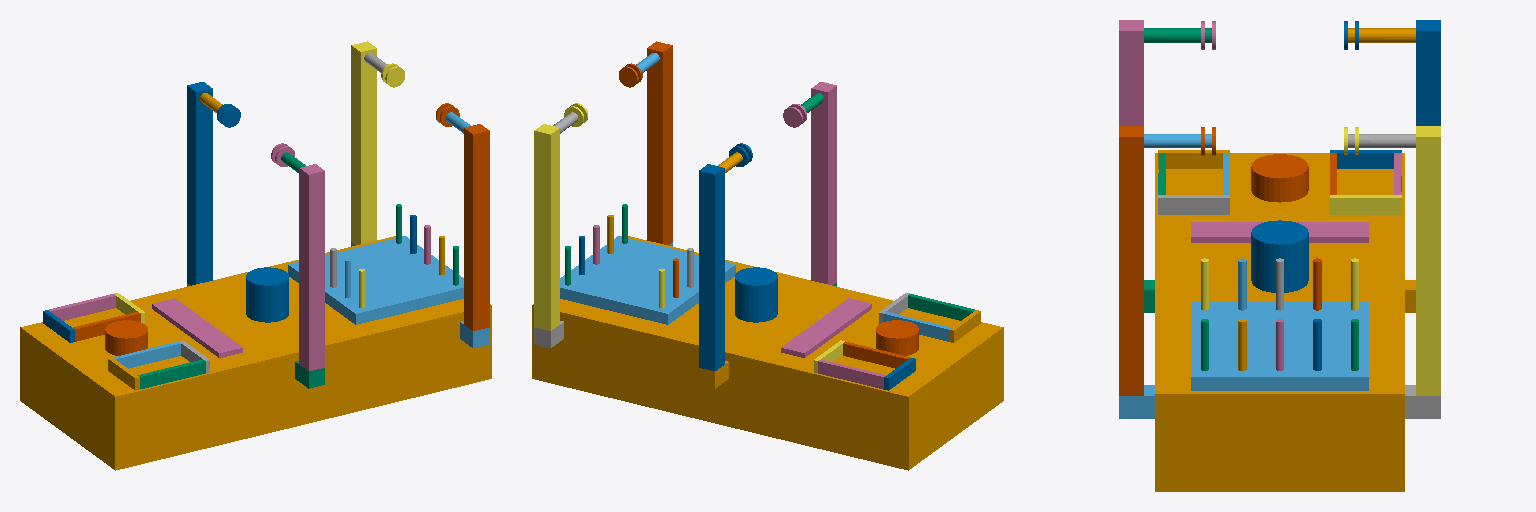
--- What the picture shows (computed from the rendered views, not written in the file) ---
Views: 3 orthographic renders of the robot side by side, from view 1: azimuth 30°, elevation 25°; view 2: azimuth 150°, elevation 25°; view 3: azimuth 270°, elevation 25°.
Model carritov6 with 47 links and 46 joints (46 fixed), rooted at chasis1, posed all joints at 0.
Visible links, largest first — view 1: chasis1, chasis2, pata4_parte2, pata3_parte2, pata1_parte2, pata2_parte2, soporte_ur3_sep, zona_union, soporte_ur3_at, pared4_buffer1, pared4_buffer2, pared3_buffer1 (+2 smaller); view 2: chasis1, chasis2, pata2_parte2, pata1_parte2, pata3_parte2, pata4_parte2, soporte_ur3_sep, zona_union, soporte_ur3_at, pared4_buffer2, pared4_buffer1, pared3_buffer2 (+2 smaller); view 3: chasis1, chasis2, pata1_parte2, pata3_parte2, soporte_ur3_sep, pata2_parte2, pata4_parte2, zona_union, soporte_ur3_at, pared1_buffer1, pared1_buffer2, pared2_buffer1 (+7 smaller).
Link boxes in pixels (x1=…): chasis1: x1=20, y1=236, x2=491, y2=470; chasis2: x1=288, y1=236, x2=463, y2=324; pata4_parte2: x1=299, y1=164, x2=324, y2=370; pata3_parte2: x1=464, y1=124, x2=489, y2=330; pata1_parte2: x1=351, y1=41, x2=376, y2=244; pata2_parte2: x1=187, y1=82, x2=212, y2=285; soporte_ur3_sep: x1=246, y1=267, x2=288, y2=322; zona_union: x1=152, y1=298, x2=242, y2=357; soporte_ur3_at: x1=105, y1=320, x2=147, y2=355; pared4_buffer1: x1=137, y1=359, x2=205, y2=388; pared4_buffer2: x1=49, y1=294, x2=115, y2=320; pared3_buffer1: x1=113, y1=341, x2=180, y2=368; chasis1: x1=532, y1=236, x2=1003, y2=470; chasis2: x1=560, y1=236, x2=735, y2=324; pata2_parte2: x1=699, y1=164, x2=724, y2=370; pata1_parte2: x1=534, y1=124, x2=559, y2=330; pata3_parte2: x1=647, y1=41, x2=672, y2=244; pata4_parte2: x1=811, y1=82, x2=836, y2=285; soporte_ur3_sep: x1=735, y1=267, x2=777, y2=322; zona_union: x1=781, y1=298, x2=871, y2=357; soporte_ur3_at: x1=876, y1=320, x2=918, y2=355; pared4_buffer2: x1=818, y1=359, x2=886, y2=389; pared4_buffer1: x1=908, y1=294, x2=974, y2=320; pared3_buffer2: x1=843, y1=341, x2=910, y2=368; chasis1: x1=1155, y1=153, x2=1404, y2=491; chasis2: x1=1191, y1=301, x2=1368, y2=390; pata1_parte2: x1=1416, y1=126, x2=1440, y2=395; pata3_parte2: x1=1119, y1=126, x2=1143, y2=395; soporte_ur3_sep: x1=1251, y1=220, x2=1308, y2=292; pata2_parte2: x1=1416, y1=20, x2=1440, y2=125; pata4_parte2: x1=1119, y1=20, x2=1143, y2=125; zona_union: x1=1191, y1=222, x2=1368, y2=242; soporte_ur3_at: x1=1251, y1=154, x2=1308, y2=202; pared1_buffer1: x1=1158, y1=195, x2=1229, y2=214; pared1_buffer2: x1=1330, y1=195, x2=1401, y2=214; pared2_buffer1: x1=1158, y1=150, x2=1229, y2=168.
Size in the robot's own frame: 1.6 by 0.9 by 1.08 metres.
Geometry: primitives only (box / cylinder / sphere), no mesh files.

robot.urdf — carritov6:
<?xml version="1.0"?>
<robot name="carritov6">

<!--
  Author: Juan Rubio Romera
-->

  <link name="chasis1">
    <inertial>
      <origin xyz="0 0 0" rpy="0 0 0"/>
      <mass value="1.0" />
      <inertia ixx="0.0741666666667" ixy="0.0" ixz="0.0" iyy="0.0585416666667" iyz="0.0" izz="0.0260416666667"/>
    </inertial>
    <visual>
      <geometry>
        <box size="1.60 0.70 0.30"/> <!--cotas en cm -->
      </geometry>
    </visual>
    <collision>
      <geometry>
        <box size="1.60 0.70 0.30"/> <!--cotas en cm -->
      </geometry>
    </collision>
  </link>

  <link name="chasis2">
    <inertial>
      <origin xyz="0 0 0" rpy="0 0 0"/>
      <mass value="1.0" />
      <inertia ixx="0.0741666666667" ixy="0.0" ixz="0.0" iyy="0.0585416666667" iyz="0.0" izz="0.0260416666667"/>
    </inertial>
    <visual>
      <geometry>
        <box size="0.5 0.5 0.05"/>
      </geometry>
      <material name="aluminium"/>
    </visual>
    <collision>
      <geometry>
        <box size="0.5 0.5 0.05"/>
      </geometry>
      <material name="aluminium"/>
    </collision>
  </link>

  <joint name="chasis1_to_chasis2" type="fixed">
    <parent link="chasis1"/>
    <child link="chasis2"/>
    <origin rpy="0 0 0" xyz="0.53 0 0.17"/>
  </joint>




 <!-- CODIGO SOPORTES -->




  <link name="soporte1_base1">
    <inertial>
      <origin xyz="0 0 0" rpy="0 0 0"/>
      <mass value="1.0" />
      <inertia ixx="0.0741666666667" ixy="0.0" ixz="0.0" iyy="0.0585416666667" iyz="0.0" izz="0.0260416666667"/>
    </inertial>
    <visual>
      <geometry>
        <cylinder length="0.15" radius="0.012"/>
      </geometry>
    </visual>
    <collision>
      <geometry>
        <cylinder length="0.15" radius="0.012"/>
      </geometry>
    </collision>
  </link>

  <joint name="soporte1_base1_to_chasis2" type="fixed">
    <parent link="chasis2"/>
    <child link="soporte1_base1"/>
    <origin rpy="0 0 0" xyz="0.2 0.21 0.100"/>
  </joint>

  <link name="soporte1_base2">
    <inertial>
      <origin xyz="0 0 0" rpy="0 0 0"/>
      <mass value="1.0" />
      <inertia ixx="0.0741666666667" ixy="0.0" ixz="0.0" iyy="0.0585416666667" iyz="0.0" izz="0.0260416666667"/>
    </inertial>
    <visual>
      <geometry>
        <cylinder length="0.15" radius="0.012"/>
      </geometry>
    </visual>
    <collision>
      <geometry>
        <cylinder length="0.15" radius="0.012"/>
      </geometry>
    </collision>
  </link>

  <joint name="soporte1_base2_to_chasis2" type="fixed">
    <parent link="chasis2"/>
    <child link="soporte1_base2"/>
    <origin rpy="0 0 0" xyz="-0.2 0.21 0.1000"/>
  </joint>

  <link name="soporte2_base1">
    <inertial>
      <origin xyz="0 0 0" rpy="0 0 0"/>
      <mass value="1.0" />
      <inertia ixx="0.0741666666667" ixy="0.0" ixz="0.0" iyy="0.0585416666667" iyz="0.0" izz="0.0260416666667"/>
    </inertial>
    <visual>
      <geometry>
        <cylinder length="0.15" radius="0.012"/>
      </geometry>
    </visual>
    <collision>
      <geometry>
        <cylinder length="0.15" radius="0.012"/>
      </geometry>
    </collision>
  </link>

  <joint name="soporte2_base1_to_chasis2" type="fixed">
    <parent link="chasis2"/>
    <child link="soporte2_base1"/>
    <origin rpy="0 0 0" xyz="0.2 0.1050 0.100"/>
  </joint>

  <link name="soporte2_base2">
    <inertial>
      <origin xyz="0 0 0" rpy="0 0 0"/>
      <mass value="1.0" />
      <inertia ixx="0.0741666666667" ixy="0.0" ixz="0.0" iyy="0.0585416666667" iyz="0.0" izz="0.0260416666667"/>
    </inertial>
    <visual>
      <geometry>
        <cylinder length="0.15" radius="0.012"/>
      </geometry>
    </visual>
    <collision>
      <geometry>
        <cylinder length="0.15" radius="0.012"/>
      </geometry>
    </collision>
  </link>

  <joint name="soporte2_base2_to_chasis2" type="fixed">
    <parent link="chasis2"/>
    <child link="soporte2_base2"/>
    <origin rpy="0 0 0" xyz="-0.2 0.1050 0.100"/>
  </joint>

  <link name="soporte3_base1">
    <inertial>
      <origin xyz="0 0 0" rpy="0 0 0"/>
      <mass value="1.0" />
      <inertia ixx="0.0741666666667" ixy="0.0" ixz="0.0" iyy="0.0585416666667" iyz="0.0" izz="0.0260416666667"/>
    </inertial>
    <visual>
      <geometry>
        <cylinder length="0.15" radius="0.012"/>
      </geometry>
    </visual>
    <collision>
      <geometry>
        <cylinder length="0.15" radius="0.012"/>
      </geometry>
    </collision>
  </link>

  <joint name="soporte3_base1_to_chasis2" type="fixed">
    <parent link="chasis2"/>
    <child link="soporte3_base1"/>
    <origin rpy="0 0 0" xyz="0.2 0 0.100"/>
  </joint>

  <link name="soporte3_base2">
    <inertial>
      <origin xyz="0 0 0" rpy="0 0 0"/>
      <mass value="1.0" />
      <inertia ixx="0.0741666666667" ixy="0.0" ixz="0.0" iyy="0.0585416666667" iyz="0.0" izz="0.0260416666667"/>
    </inertial>
    <visual>
      <geometry>
        <cylinder length="0.15" radius="0.012"/>
      </geometry>
    </visual>
    <collision>
      <geometry>
        <cylinder length="0.15" radius="0.012"/>
      </geometry>
    </collision>
  </link>

  <joint name="soporte3_base2_to_chasis2" type="fixed">
    <parent link="chasis2"/>
    <child link="soporte3_base2"/>
    <origin rpy="0 0 0" xyz="-0.2 0 0.100"/>
  </joint>

  <link name="soporte4_base1">
    <inertial>
      <origin xyz="0 0 0" rpy="0 0 0"/>
      <mass value="1.0" />
      <inertia ixx="0.0741666666667" ixy="0.0" ixz="0.0" iyy="0.0585416666667" iyz="0.0" izz="0.0260416666667"/>
    </inertial>
    <visual>
      <geometry>
        <cylinder length="0.15" radius="0.012"/>
      </geometry>
    </visual>
    <collision>
      <geometry>
        <cylinder length="0.15" radius="0.012"/>
      </geometry>
    </collision>
  </link>

  <joint name="soporte4_base1_to_chasis2" type="fixed">
    <parent link="chasis2"/>
    <child link="soporte4_base1"/>
    <origin rpy="0 0 0" xyz="0.2 -0.105 0.100"/>
  </joint>

  <link name="soporte4_base2">
    <inertial>
      <origin xyz="0 0 0" rpy="0 0 0"/>
      <mass value="1.0" />
      <inertia ixx="0.0741666666667" ixy="0.0" ixz="0.0" iyy="0.0585416666667" iyz="0.0" izz="0.0260416666667"/>
    </inertial>
    <visual>
      <geometry>
        <cylinder length="0.15" radius="0.012"/>
      </geometry>
    </visual>
    <collision>
      <geometry>
        <cylinder length="0.15" radius="0.012"/>
      </geometry>
    </collision>
  </link>

  <joint name="soporte4_base2_to_chasis2" type="fixed">
    <parent link="chasis2"/>
    <child link="soporte4_base2"/>
    <origin rpy="0 0 0" xyz="-0.2 -0.105 0.100"/>
  </joint>

  <link name="soporte5_base1">
    <inertial>
      <origin xyz="0 0 0" rpy="0 0 0"/>
      <mass value="1.0" />
      <inertia ixx="0.0741666666667" ixy="0.0" ixz="0.0" iyy="0.0585416666667" iyz="0.0" izz="0.0260416666667"/>
    </inertial>
    <visual>
      <geometry>
        <cylinder length="0.15" radius="0.012"/>
      </geometry>
    </visual>
    <collision>
      <geometry>
        <cylinder length="0.15" radius="0.012"/>
      </geometry>
    </collision>
  </link>

  <joint name="soporte5_base1_to_chasis2" type="fixed">
    <parent link="chasis2"/>
    <child link="soporte5_base1"/>
    <origin rpy="0 0 0" xyz="0.2 -0.210 0.100"/>
  </joint>

  <link name="soporte5_base2">
    <inertial>
      <origin xyz="0 0 0" rpy="0 0 0"/>
      <mass value="1.0" />
      <inertia ixx="0.0741666666667" ixy="0.0" ixz="0.0" iyy="0.0585416666667" iyz="0.0" izz="0.0260416666667"/>
    </inertial>
    <visual>
      <geometry>
        <cylinder length="0.15" radius="0.012"/>
      </geometry>
    </visual>
    <collision>
      <geometry>
        <cylinder length="0.15" radius="0.012"/>
      </geometry>
    </collision>
  </link>

  <joint name="soporte5_base2_to_chasis2" type="fixed">
    <parent link="chasis2"/>
    <child link="soporte5_base2"/>
    <origin rpy="0 0 0" xyz="-0.2 -0.210 0.100"/>
  </joint>





<!-- CÓDIGO SOPORTES BRAZOS -->





  <link name="soporte_ur3_sep">
    <inertial>
      <origin xyz="0 0 0" rpy="0 0 0"/>
      <mass value="1.0" />
      <inertia ixx="0.0741666666667" ixy="0.0" ixz="0.0" iyy="0.0585416666667" iyz="0.0" izz="0.0260416666667"/>
    </inertial>
    <visual>
      <geometry>
        <cylinder length="0.15" radius="0.08"/>
      </geometry>
    </visual>
    <collision>
      <geometry>
        <cylinder length="0.15" radius="0.08"/>
      </geometry>
    </collision>
  </link>

  <joint name="soporte_ur3_sep_to_chassis1" type="fixed">
    <parent link="chasis1"/>
    <child link="soporte_ur3_sep"/>
    <origin rpy="0 0 0" xyz="0.05 0 0.2250"/>
  </joint>

  <link name="soporte_ur3_at">
    <inertial>
      <origin xyz="0 0 0" rpy="0 0 0"/>
      <mass value="1.0" />
      <inertia ixx="0.0741666666667" ixy="0.0" ixz="0.0" iyy="0.0585416666667" iyz="0.0" izz="0.0260416666667"/>
    </inertial>
    <visual>
      <geometry>
        <cylinder length="0.075" radius="0.08"/>
      </geometry>
    </visual>
    <collision>
      <geometry>
        <cylinder length="0.075" radius="0.08"/>
      </geometry>
    </collision>
  </link>

  <joint name="soporte_ur3_at_to_chassis1" type="fixed">
    <parent link="chasis1"/>
    <child link="soporte_ur3_at"/>
    <origin rpy="0 0 0" xyz="-0.55 0 0.1875"/>
  </joint>




<!-- CÓDIGO ZONA DE TRABAJO Y BUFFERS -->




  <link name="zona_union">
    <inertial>
      <origin xyz="0 0 0" rpy="0 0 0"/>
      <mass value="1.0" />
      <inertia ixx="0.0741666666667" ixy="0.0" ixz="0.0" iyy="0.0585416666667" iyz="0.0" izz="0.0260416666667"/>
    </inertial>
    <visual>
      <geometry>
        <box size="0.1 0.5 0.02"/>
      </geometry>
      <material name="aluminium"/>
    </visual>
    <collision>
      <geometry>
        <box size="0.1 0.5 0.02"/>
      </geometry>
      <material name="aluminium"/>
    </collision>
  </link>

  <joint name="chasis1_to_zona_union" type="fixed">
    <parent link="chasis1"/>
    <child link="zona_union"/>
    <origin rpy="0 0 0" xyz="-0.25 0 0.16"/>
  </joint>

  <link name="pared1_buffer1">
    <inertial>
      <origin xyz="0 0 0" rpy="0 0 0"/>
      <mass value="1.0" />
      <inertia ixx="0.0741666666667" ixy="0.0" ixz="0.0" iyy="0.0585416666667" iyz="0.0" izz="0.0260416666667"/>
    </inertial>
    <visual>
      <geometry>
        <box size="0.02 0.2 0.05"/>
      </geometry>
      <material name="aluminium"/>
    </visual>
    <collision>
      <geometry>
        <box size="0.02 0.2 0.05"/>
      </geometry>
      <material name="aluminium"/>
    </collision>
  </link>

  <joint name="chasis1_to_pared1_buffer1" type="fixed">
    <parent link="chasis1"/>
    <child link="pared1_buffer1"/>
    <origin rpy="0 0 0" xyz="-0.4 -0.24 0.175"/>
  </joint>

  <link name="pared2_buffer1">
    <inertial>
      <origin xyz="0 0 0" rpy="0 0 0"/>
      <mass value="1.0" />
      <inertia ixx="0.0741666666667" ixy="0.0" ixz="0.0" iyy="0.0585416666667" iyz="0.0" izz="0.0260416666667"/>
    </inertial>
    <visual>
      <geometry>
        <box size="0.02 0.2 0.05"/>
      </geometry>
      <material name="aluminium"/>
    </visual>
    <collision>
      <geometry>
        <box size="0.02 0.2 0.05"/>
      </geometry>
      <material name="aluminium"/>
    </collision>
  </link>

  <joint name="chasis1_to_pared2_buffer1" type="fixed">
    <parent link="chasis1"/>
    <child link="pared2_buffer1"/>
    <origin rpy="0 0 0" xyz="-0.7 -0.24 0.175"/>
  </joint>

  <link name="pared3_buffer1">
    <inertial>
      <origin xyz="0 0 0" rpy="0 0 0"/>
      <mass value="1.0" />
      <inertia ixx="0.0741666666667" ixy="0.0" ixz="0.0" iyy="0.0585416666667" iyz="0.0" izz="0.0260416666667"/>
    </inertial>
    <visual>
      <geometry>
        <box size="0.02 0.28 0.05"/>
      </geometry>
      <material name="aluminium"/>
    </visual>
    <collision>
      <geometry>
        <box size="0.02 0.28 0.05"/>
      </geometry>
      <material name="aluminium"/>
    </collision>
  </link>

  <joint name="chasis1_to_pared3_buffer1" type="fixed">
    <parent link="chasis1"/>
    <child link="pared3_buffer1"/>
    <origin rpy="0 0 1.57" xyz="-0.55 -0.15 0.175"/>
  </joint>

  <link name="pared4_buffer1">
    <inertial>
      <origin xyz="0 0 0" rpy="0 0 0"/>
      <mass value="1.0" />
      <inertia ixx="0.0741666666667" ixy="0.0" ixz="0.0" iyy="0.0585416666667" iyz="0.0" izz="0.0260416666667"/>
    </inertial>
    <visual>
      <geometry>
        <box size="0.02 0.28 0.05"/>
      </geometry>
      <material name="aluminium"/>
    </visual>
    <collision>
      <geometry>
        <box size="0.02 0.28 0.05"/>
      </geometry>
      <material name="aluminium"/>
    </collision>
  </link>

  <joint name="chasis1_to_pared4_buffer1" type="fixed">
    <parent link="chasis1"/>
    <child link="pared4_buffer1"/>
    <origin rpy="0 0 1.57" xyz="-0.55 -0.33 0.175"/>
  </joint>

  <link name="pared1_buffer2">
    <inertial>
      <origin xyz="0 0 0" rpy="0 0 0"/>
      <mass value="1.0" />
      <inertia ixx="0.0741666666667" ixy="0.0" ixz="0.0" iyy="0.0585416666667" iyz="0.0" izz="0.0260416666667"/>
    </inertial>
    <visual>
      <geometry>
        <box size="0.02 0.2 0.05"/>
      </geometry>
      <material name="aluminium"/>
    </visual>
    <collision>
      <geometry>
        <box size="0.02 0.2 0.05"/>
      </geometry>
      <material name="aluminium"/>
    </collision>
  </link>

  <joint name="chasis1_to_pared1_buffer2" type="fixed">
    <parent link="chasis1"/>
    <child link="pared1_buffer2"/>
    <origin rpy="0 0 0" xyz="-0.4 0.24 0.175"/>
  </joint>

  <link name="pared2_buffer2">
    <inertial>
      <origin xyz="0 0 0" rpy="0 0 0"/>
      <mass value="1.0" />
      <inertia ixx="0.0741666666667" ixy="0.0" ixz="0.0" iyy="0.0585416666667" iyz="0.0" izz="0.0260416666667"/>
    </inertial>
    <visual>
      <geometry>
        <box size="0.02 0.2 0.05"/>
      </geometry>
      <material name="aluminium"/>
    </visual>
    <collision>
      <geometry>
        <box size="0.02 0.2 0.05"/>
      </geometry>
      <material name="aluminium"/>
    </collision>
  </link>

  <joint name="chasis1_to_pared2_buffer2" type="fixed">
    <parent link="chasis1"/>
    <child link="pared2_buffer2"/>
    <origin rpy="0 0 0" xyz="-0.7 0.24 0.175"/>
  </joint>

  <link name="pared3_buffer2">
    <inertial>
      <origin xyz="0 0 0" rpy="0 0 0"/>
      <mass value="1.0" />
      <inertia ixx="0.0741666666667" ixy="0.0" ixz="0.0" iyy="0.0585416666667" iyz="0.0" izz="0.0260416666667"/>
    </inertial>
    <visual>
      <geometry>
        <box size="0.02 0.28 0.05"/>
      </geometry>
      <material name="aluminium"/>
    </visual>
    <collision>
      <geometry>
        <box size="0.02 0.28 0.05"/>
      </geometry>
      <material name="aluminium"/>
    </collision>
  </link>

  <joint name="chasis1_to_pared3_buffer2" type="fixed">
    <parent link="chasis1"/>
    <child link="pared3_buffer2"/>
    <origin rpy="0 0 1.57" xyz="-0.55 0.15 0.175"/>
  </joint>

  <link name="pared4_buffer2">
    <inertial>
      <origin xyz="0 0 0" rpy="0 0 0"/>
      <mass value="1.0" />
      <inertia ixx="0.0741666666667" ixy="0.0" ixz="0.0" iyy="0.0585416666667" iyz="0.0" izz="0.0260416666667"/>
    </inertial>
    <visual>
      <geometry>
        <box size="0.02 0.28 0.05"/>
      </geometry>
      <material name="aluminium"/>
    
    </visual>
    <collision>
      <geometry>
        <box size="0.02 0.28 0.05"/>
      </geometry>
      <material name="aluminium"/>
    </collision>
  </link>

  <joint name="chasis1_to_pared4_buffer2" type="fixed">
    <parent link="chasis1"/>
    <child link="pared4_buffer2"/>
    <origin rpy="0 0 1.57" xyz="-0.55 0.33 0.175"/>
  </joint>



<!-- CÓDIGO PATAS Y RUEDAS -->


  <link name="pata1_parte1">
    <inertial>
      <origin xyz="0 0 0" rpy="0 0 0"/>
      <mass value="1.0" />
      <inertia ixx="0.0741666666667" ixy="0.0" ixz="0.0" iyy="0.0585416666667" iyz="0.0" izz="0.0260416666667"/>
    </inertial>
    <visual>
      <geometry>
        <box size="0.07 0.1 0.07"/>
      </geometry>
      <material name="aluminium"/>
    
    </visual>
    <collision>
      <geometry>
        <box size="0.07 0.1 0.07"/>
      </geometry>
      <material name="aluminium"/>
    </collision>
  </link>

  <joint name="chasis1_to_pata1_parte1" type="fixed">
    <parent link="chasis1"/>
    <child link="pata1_parte1"/>
    <origin rpy="0 0 0" xyz="0.7 0.4 0.08"/>
  </joint>

  <link name="pata2_parte1">
    <inertial>
      <origin xyz="0 0 0" rpy="0 0 0"/>
      <mass value="1.0" />
      <inertia ixx="0.0741666666667" ixy="0.0" ixz="0.0" iyy="0.0585416666667" iyz="0.0" izz="0.0260416666667"/>
    </inertial>
    <visual>
      <geometry>
        <box size="0.07 0.1 0.07"/>
      </geometry>
      <material name="aluminium"/>
    
    </visual>
    <collision>
      <geometry>
        <box size="0.07 0.1 0.07"/>
      </geometry>
      <material name="aluminium"/>
    </collision>
  </link>

  <joint name="chasis1_to_pata2_parte1" type="fixed">
    <parent link="chasis1"/>
    <child link="pata2_parte1"/>
    <origin rpy="0 0 0" xyz="0 0.4 0.08"/>
  </joint>

  <link name="pata3_parte1">
    <inertial>
      <origin xyz="0 0 0" rpy="0 0 0"/>
      <mass value="1.0" />
      <inertia ixx="0.0741666666667" ixy="0.0" ixz="0.0" iyy="0.0585416666667" iyz="0.0" izz="0.0260416666667"/>
    </inertial>
    <visual>
      <geometry>
        <box size="0.07 0.1 0.07"/>
      </geometry>
      <material name="aluminium"/>
    
    </visual>
    <collision>
      <geometry>
        <box size="0.07 0.1 0.07"/>
      </geometry>
      <material name="aluminium"/>
    </collision>
  </link>

  <joint name="chasis1_to_pata3_parte1" type="fixed">
    <parent link="chasis1"/>
    <child link="pata3_parte1"/>
    <origin rpy="0 0 0" xyz="0.7 -0.4 0.08"/>
  </joint>

  <link name="pata4_parte1">
    <inertial>
      <origin xyz="0 0 0" rpy="0 0 0"/>
      <mass value="1.0" />
      <inertia ixx="0.0741666666667" ixy="0.0" ixz="0.0" iyy="0.0585416666667" iyz="0.0" izz="0.0260416666667"/>
    </inertial>
    <visual>
      <geometry>
        <box size="0.07 0.1 0.07"/>
      </geometry>
      <material name="aluminium"/>
    
    </visual>
    <collision>
      <geometry>
        <box size="0.07 0.1 0.07"/>
      </geometry>
      <material name="aluminium"/>
    </collision>
  </link>

  <joint name="chasis1_to_pata4_parte1" type="fixed">
    <parent link="chasis1"/>
    <child link="pata4_parte1"/>
    <origin rpy="0 0 0" xyz="0 -0.4 0.08"/>
  </joint>

  <link name="pata1_parte2">
    <inertial>
      <origin xyz="0 0 0" rpy="0 0 0"/>
      <mass value="1.0" />
      <inertia ixx="0.0741666666667" ixy="0.0" ixz="0.0" iyy="0.0585416666667" iyz="0.0" izz="0.0260416666667"/>
    </inertial>
    <visual>
      <geometry>
        <box size="0.07 0.07 0.8"/>
      </geometry>
      <material name="aluminium"/>
    
    </visual>
    <collision>
      <geometry>
        <box size="0.07 0.07 0.8"/>
      </geometry>
      <material name="aluminium"/>
    </collision>
  </link>

  <joint name="pata1_parte1_to_pata1_parte2" type="fixed">
    <parent link="pata1_parte1"/>
    <child link="pata1_parte2"/>
    <origin rpy="0 0 0" xyz="0 0.015 0.435"/>
  </joint>

  <link name="pata2_parte2">
    <inertial>
      <origin xyz="0 0 0" rpy="0 0 0"/>
      <mass value="1.0" />
      <inertia ixx="0.0741666666667" ixy="0.0" ixz="0.0" iyy="0.0585416666667" iyz="0.0" izz="0.0260416666667"/>
    </inertial>
    <visual>
      <geometry>
        <box size="0.07 0.07 0.8"/>
      </geometry>
      <material name="aluminium"/>
    
    </visual>
    <collision>
      <geometry>
        <box size="0.07 0.07 0.8"/>
      </geometry>
      <material name="aluminium"/>
    </collision>
  </link>

  <joint name="pata2_parte1_to_pata2_parte2" type="fixed">
    <parent link="pata2_parte1"/>
    <child link="pata2_parte2"/>
    <origin rpy="0 0 0" xyz="0 0.015 0.435"/>
  </joint>

  <link name="pata3_parte2">
    <inertial>
      <origin xyz="0 0 0" rpy="0 0 0"/>
      <mass value="1.0" />
      <inertia ixx="0.0741666666667" ixy="0.0" ixz="0.0" iyy="0.0585416666667" iyz="0.0" izz="0.0260416666667"/>
    </inertial>
    <visual>
      <geometry>
        <box size="0.07 0.07 0.8"/>
      </geometry>
      <material name="aluminium"/>
    
    </visual>
    <collision>
      <geometry>
        <box size="0.07 0.07 0.8"/>
      </geometry>
      <material name="aluminium"/>
    </collision>
  </link>

  <joint name="pata3_parte1_to_pata3_parte2" type="fixed">
    <parent link="pata3_parte1"/>
    <child link="pata3_parte2"/>
    <origin rpy="0 0 0" xyz="0 -0.015 0.435"/>
  </joint>

  <link name="pata4_parte2">
    <inertial>
      <origin xyz="0 0 0" rpy="0 0 0"/>
      <mass value="1.0" />
      <inertia ixx="0.0741666666667" ixy="0.0" ixz="0.0" iyy="0.0585416666667" iyz="0.0" izz="0.0260416666667"/>
    </inertial>
    <visual>
      <geometry>
        <box size="0.07 0.07 0.8"/>
      </geometry>
      <material name="aluminium"/>
    
    </visual>
    <collision>
      <geometry>
        <box size="0.07 0.07 0.8"/>
      </geometry>
      <material name="aluminium"/>
    </collision>
  </link>

  <joint name="pata4_parte1_to_pata4_parte2" type="fixed">
    <parent link="pata4_parte1"/>
    <child link="pata4_parte2"/>
    <origin rpy="0 0 0" xyz="0 -0.015 0.435"/>
  </joint>

  <link name="pata1_parte3">
    <inertial>
      <origin xyz="0 0 0" rpy="0 0 0"/>
      <mass value="1.0" />
      <inertia ixx="0.0741666666667" ixy="0.0" ixz="0.0" iyy="0.0585416666667" iyz="0.0" izz="0.0260416666667"/>
    </inertial>
    <visual>
      <geometry>
        <cylinder length="0.17" radius="0.02"/>
      </geometry>
    </visual>
    <collision>
      <geometry>
        <cylinder length="0.17" radius="0.02"/>
      </geometry>
    </collision>
  </link>

  <joint name="pata1_parte2_to_pata1_parte3" type="fixed">
    <parent link="pata1_parte2"/>
    <child link="pata1_parte3"/>
    <origin rpy="1.57 0 0" xyz="0 -0.11 0.37"/>
  </joint>

  <link name="pata2_parte3">
    <inertial>
      <origin xyz="0 0 0" rpy="0 0 0"/>
      <mass value="1.0" />
      <inertia ixx="0.0741666666667" ixy="0.0" ixz="0.0" iyy="0.0585416666667" iyz="0.0" izz="0.0260416666667"/>
    </inertial>
    <visual>
      <geometry>
        <cylinder length="0.17" radius="0.02"/>
      </geometry>
    </visual>
    <collision>
      <geometry>
        <cylinder length="0.17" radius="0.02"/>
      </geometry>
    </collision>
  </link>

  <joint name="pata2_parte2_to_pata2_parte3" type="fixed">
    <parent link="pata2_parte2"/>
    <child link="pata2_parte3"/>
    <origin rpy="1.57 0 0" xyz="0 -0.11 0.37"/>
  </joint>

  <link name="pata3_parte3">
    <inertial>
      <origin xyz="0 0 0" rpy="0 0 0"/>
      <mass value="1.0" />
      <inertia ixx="0.0741666666667" ixy="0.0" ixz="0.0" iyy="0.0585416666667" iyz="0.0" izz="0.0260416666667"/>
    </inertial>
    <visual>
      <geometry>
        <cylinder length="0.17" radius="0.02"/>
      </geometry>
    </visual>
    <collision>
      <geometry>
        <cylinder length="0.17" radius="0.02"/>
      </geometry>
    </collision>
  </link>

  <joint name="pata3_parte2_to_pata3_parte3" type="fixed">
    <parent link="pata3_parte2"/>
    <child link="pata3_parte3"/>
    <origin rpy="1.57 0 0" xyz="0 0.11 0.37"/>
  </joint>

  <link name="pata4_parte3">
    <inertial>
      <origin xyz="0 0 0" rpy="0 0 0"/>
      <mass value="1.0" />
      <inertia ixx="0.0741666666667" ixy="0.0" ixz="0.0" iyy="0.0585416666667" iyz="0.0" izz="0.0260416666667"/>
    </inertial>
    <visual>
      <geometry>
        <cylinder length="0.17" radius="0.02"/>
      </geometry>
    </visual>
    <collision>
      <geometry>
        <cylinder length="0.17" radius="0.02"/>
      </geometry>
    </collision>
  </link>

  <joint name="pata4_parte2_to_pata4_parte3" type="fixed">
    <parent link="pata4_parte2"/>
    <child link="pata4_parte3"/>
    <origin rpy="1.57 0 0" xyz="0 0.11 0.37"/>
  </joint>

  <link name="pata1_parte4">
    <inertial>
      <origin xyz="0 0 0" rpy="0 0 0"/>
      <mass value="1.0" />
      <inertia ixx="0.0741666666667" ixy="0.0" ixz="0.0" iyy="0.0585416666667" iyz="0.0" izz="0.0260416666667"/>
    </inertial>
    <visual>
      <geometry>
        <cylinder length="0.01" radius="0.04"/>
      </geometry>
    </visual>
    <collision>
      <geometry>
        <cylinder length="0.01" radius="0.04"/>
      </geometry>
    </collision>
  </link>

  <joint name="pata1_parte3_to_pata1_parte4" type="fixed">
    <parent link="pata1_parte3"/>
    <child link="pata1_parte4"/>
    <origin rpy="0 0 0" xyz="0 0 0.09"/>
  </joint>

  <link name="pata2_parte4">
    <inertial>
      <origin xyz="0 0 0" rpy="0 0 0"/>
      <mass value="1.0" />
      <inertia ixx="0.0741666666667" ixy="0.0" ixz="0.0" iyy="0.0585416666667" iyz="0.0" izz="0.0260416666667"/>
    </inertial>
    <visual>
      <geometry>
        <cylinder length="0.01" radius="0.04"/>
      </geometry>
    </visual>
    <collision>
      <geometry>
        <cylinder length="0.01" radius="0.04"/>
      </geometry>
    </collision>
  </link>

  <joint name="pata2_parte3_to_pata2_parte4" type="fixed">
    <parent link="pata2_parte3"/>
    <child link="pata2_parte4"/>
    <origin rpy="0 0 0" xyz="0 0 0.09"/>
  </joint>

  <link name="pata3_parte4">
    <inertial>
      <origin xyz="0 0 0" rpy="0 0 0"/>
      <mass value="1.0" />
      <inertia ixx="0.0741666666667" ixy="0.0" ixz="0.0" iyy="0.0585416666667" iyz="0.0" izz="0.0260416666667"/>
    </inertial>
    <visual>
      <geometry>
        <cylinder length="0.01" radius="0.04"/>
      </geometry>
    </visual>
    <collision>
      <geometry>
        <cylinder length="0.01" radius="0.04"/>
      </geometry>
    </collision>
  </link>

  <joint name="pata3_parte3_to_pata3_parte4" type="fixed">
    <parent link="pata3_parte3"/>
    <child link="pata3_parte4"/>
    <origin rpy="0 0 0" xyz="0 0 -0.09"/>
  </joint>

  <link name="pata4_parte4">
    <inertial>
      <origin xyz="0 0 0" rpy="0 0 0"/>
      <mass value="1.0" />
      <inertia ixx="0.0741666666667" ixy="0.0" ixz="0.0" iyy="0.0585416666667" iyz="0.0" izz="0.0260416666667"/>
    </inertial>
    <visual>
      <geometry>
        <cylinder length="0.01" radius="0.04"/>
      </geometry>
    </visual>
    <collision>
      <geometry>
        <cylinder length="0.01" radius="0.04"/>
      </geometry>
    </collision>
  </link>

  <joint name="pata4_parte3_to_pata4_parte4" type="fixed">
    <parent link="pata4_parte3"/>
    <child link="pata4_parte4"/>
    <origin rpy="0 0 0" xyz="0 0 -0.09"/>
  </joint>

  <link name="pata1_parte5">
    <inertial>
      <origin xyz="0 0 0" rpy="0 0 0"/>
      <mass value="1.0" />
      <inertia ixx="0.0741666666667" ixy="0.0" ixz="0.0" iyy="0.0585416666667" iyz="0.0" izz="0.0260416666667"/>
    </inertial>
    <visual>
      <geometry>
        <cylinder length="0.02" radius="0.02"/>
      </geometry>
    </visual>
    <collision>
      <geometry>
        <cylinder length="0.02" radius="0.02"/>
      </geometry>
    </collision>
  </link>

  <joint name="pata1_parte4_to_pata1_parte5" type="fixed">
    <parent link="pata1_parte4"/>
    <child link="pata1_parte5"/>
    <origin rpy="0 0 0" xyz="0 0 0.015"/>
  </joint>

  <link name="pata2_parte5">
    <inertial>
      <origin xyz="0 0 0" rpy="0 0 0"/>
      <mass value="1.0" />
      <inertia ixx="0.0741666666667" ixy="0.0" ixz="0.0" iyy="0.0585416666667" iyz="0.0" izz="0.0260416666667"/>
    </inertial>
    <visual>
      <geometry>
        <cylinder length="0.02" radius="0.02"/>
      </geometry>
    </visual>
    <collision>
      <geometry>
        <cylinder length="0.02" radius="0.02"/>
      </geometry>
    </collision>
  </link>

  <joint name="pata2_parte4_to_pata2_parte5" type="fixed">
    <parent link="pata2_parte4"/>
    <child link="pata2_parte5"/>
    <origin rpy="0 0 0" xyz="0 0 0.015"/>
  </joint>

  <link name="pata3_parte5">
    <inertial>
      <origin xyz="0 0 0" rpy="0 0 0"/>
      <mass value="1.0" />
      <inertia ixx="0.0741666666667" ixy="0.0" ixz="0.0" iyy="0.0585416666667" iyz="0.0" izz="0.0260416666667"/>
    </inertial>
    <visual>
      <geometry>
        <cylinder length="0.02" radius="0.02"/>
      </geometry>
    </visual>
    <collision>
      <geometry>
        <cylinder length="0.02" radius="0.02"/>
      </geometry>
    </collision>
  </link>

  <joint name="pata3_parte4_to_pata3_parte5" type="fixed">
    <parent link="pata3_parte4"/>
    <child link="pata3_parte5"/>
    <origin rpy="0 0 0" xyz="0 0 -0.015"/>
  </joint>

  <link name="pata4_parte5">
    <inertial>
      <origin xyz="0 0 0" rpy="0 0 0"/>
      <mass value="1.0" />
      <inertia ixx="0.0741666666667" ixy="0.0" ixz="0.0" iyy="0.0585416666667" iyz="0.0" izz="0.0260416666667"/>
    </inertial>
    <visual>
      <geometry>
        <cylinder length="0.02" radius="0.02"/>
      </geometry>
    </visual>
    <collision>
      <geometry>
        <cylinder length="0.02" radius="0.02"/>
      </geometry>
    </collision>
  </link>

  <joint name="pata4_parte4_to_pata4_parte5" type="fixed">
    <parent link="pata4_parte4"/>
    <child link="pata4_parte5"/>
    <origin rpy="0 0 0" xyz="0 0 -0.015"/>
  </joint>

  <link name="pata1_parte6">
    <inertial>
      <origin xyz="0 0 0" rpy="0 0 0"/>
      <mass value="1.0" />
      <inertia ixx="0.0741666666667" ixy="0.0" ixz="0.0" iyy="0.0585416666667" iyz="0.0" izz="0.0260416666667"/>
    </inertial>
    <visual>
      <geometry>
        <cylinder length="0.01" radius="0.04"/>
      </geometry>
    </visual>
    <collision>
      <geometry>
        <cylinder length="0.01" radius="0.04"/>
      </geometry>
    </collision>
  </link>

  <joint name="pata1_parte5_to_pata1_parte6" type="fixed">
    <parent link="pata1_parte5"/>
    <child link="pata1_parte6"/>
    <origin rpy="0 0 0" xyz="0 0 0.015"/>
  </joint>

  <link name="pata2_parte6">
    <inertial>
      <origin xyz="0 0 0" rpy="0 0 0"/>
      <mass value="1.0" />
      <inertia ixx="0.0741666666667" ixy="0.0" ixz="0.0" iyy="0.0585416666667" iyz="0.0" izz="0.0260416666667"/>
    </inertial>
    <visual>
      <geometry>
        <cylinder length="0.01" radius="0.04"/>
      </geometry>
    </visual>
    <collision>
      <geometry>
        <cylinder length="0.01" radius="0.04"/>
      </geometry>
    </collision>
  </link>

  <joint name="pata2_parte5_to_pata2_parte6" type="fixed">
    <parent link="pata2_parte5"/>
    <child link="pata2_parte6"/>
    <origin rpy="0 0 0" xyz="0 0 0.015"/>
  </joint>

  <link name="pata3_parte6">
    <inertial>
      <origin xyz="0 0 0" rpy="0 0 0"/>
      <mass value="1.0" />
      <inertia ixx="0.0741666666667" ixy="0.0" ixz="0.0" iyy="0.0585416666667" iyz="0.0" izz="0.0260416666667"/>
    </inertial>
    <visual>
      <geometry>
        <cylinder length="0.01" radius="0.04"/>
      </geometry>
    </visual>
    <collision>
      <geometry>
        <cylinder length="0.01" radius="0.04"/>
      </geometry>
    </collision>
  </link>

  <joint name="pata3_parte5_to_pata3_parte6" type="fixed">
    <parent link="pata3_parte5"/>
    <child link="pata3_parte6"/>
    <origin rpy="0 0 0" xyz="0 0 -0.015"/>
  </joint>

  <link name="pata4_parte6">
    <inertial>
      <origin xyz="0 0 0" rpy="0 0 0"/>
      <mass value="1.0" />
      <inertia ixx="0.0741666666667" ixy="0.0" ixz="0.0" iyy="0.0585416666667" iyz="0.0" izz="0.0260416666667"/>
    </inertial>
    <visual>
      <geometry>
        <cylinder length="0.01" radius="0.04"/>
      </geometry>
    </visual>
    <collision>
      <geometry>
        <cylinder length="0.01" radius="0.04"/>
      </geometry>
    </collision>
  </link>

  <joint name="pata4_parte5_to_pata4_parte6" type="fixed">
    <parent link="pata4_parte5"/>
    <child link="pata4_parte6"/>
    <origin rpy="0 0 0" xyz="0 0 -0.015"/>
  </joint>

  <gazebo>
    <static>true</static>
  </gazebo>

</robot>
